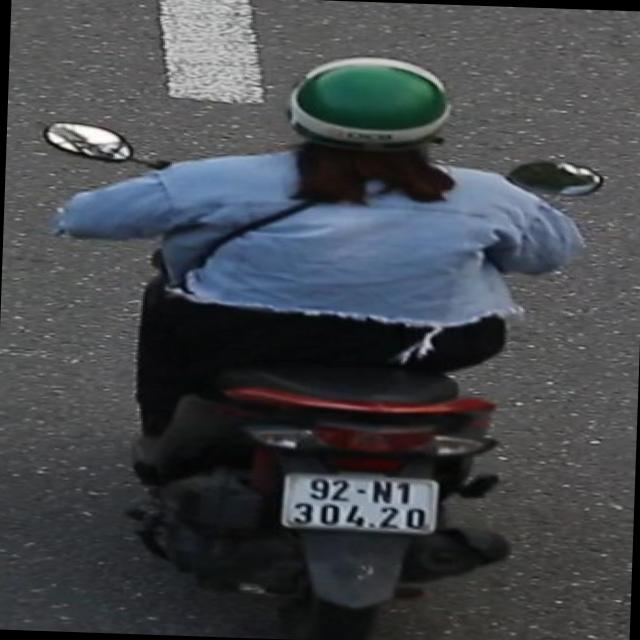LP: (274, 469, 444, 538)
helmet: (282, 47, 462, 208)
